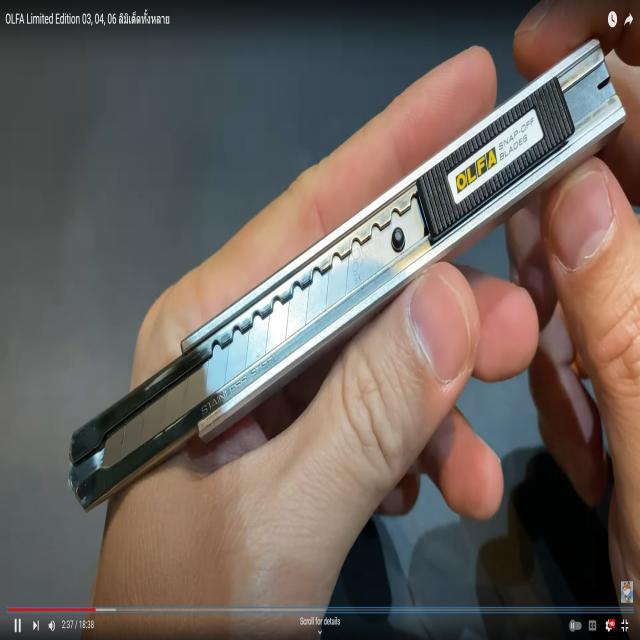cutter: (65, 33, 628, 515)
